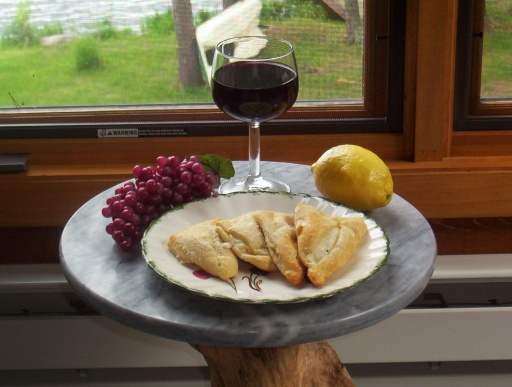background: (67, 41, 314, 127), (134, 51, 294, 172), (81, 59, 188, 151), (70, 36, 238, 73)
